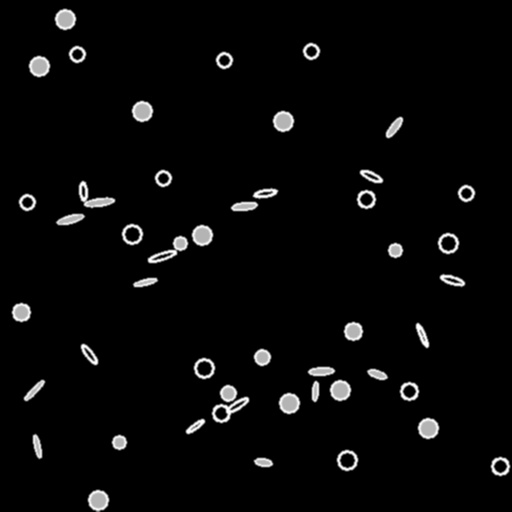pseudomonas: (23, 379, 45, 401), (225, 395, 249, 415), (147, 248, 177, 264), (79, 343, 99, 365), (384, 116, 404, 138), (359, 168, 383, 184), (439, 273, 465, 287), (415, 323, 429, 347), (185, 418, 205, 434), (57, 213, 83, 225), (84, 197, 114, 207), (231, 201, 257, 211), (367, 368, 387, 380), (32, 434, 42, 458), (133, 277, 157, 287), (254, 188, 276, 198), (309, 367, 333, 375), (79, 181, 87, 201), (254, 458, 272, 466), (312, 381, 318, 401)
synechocystis: (30, 57, 48, 75), (439, 234, 457, 252), (338, 451, 356, 469), (133, 102, 151, 120), (419, 419, 437, 437), (195, 359, 213, 377), (123, 225, 141, 243), (280, 394, 298, 412), (274, 112, 292, 130), (193, 226, 211, 244), (56, 10, 74, 28), (331, 381, 349, 399), (89, 491, 107, 509), (358, 191, 374, 207), (213, 405, 229, 421), (401, 383, 417, 399), (13, 304, 29, 320), (492, 458, 508, 474), (345, 323, 361, 339), (304, 44, 318, 58), (255, 350, 269, 364), (70, 47, 84, 61), (20, 195, 34, 209), (459, 186, 473, 200), (221, 386, 235, 400), (217, 53, 231, 67), (156, 171, 170, 185), (174, 237, 186, 249), (389, 244, 401, 256), (113, 436, 125, 448)
